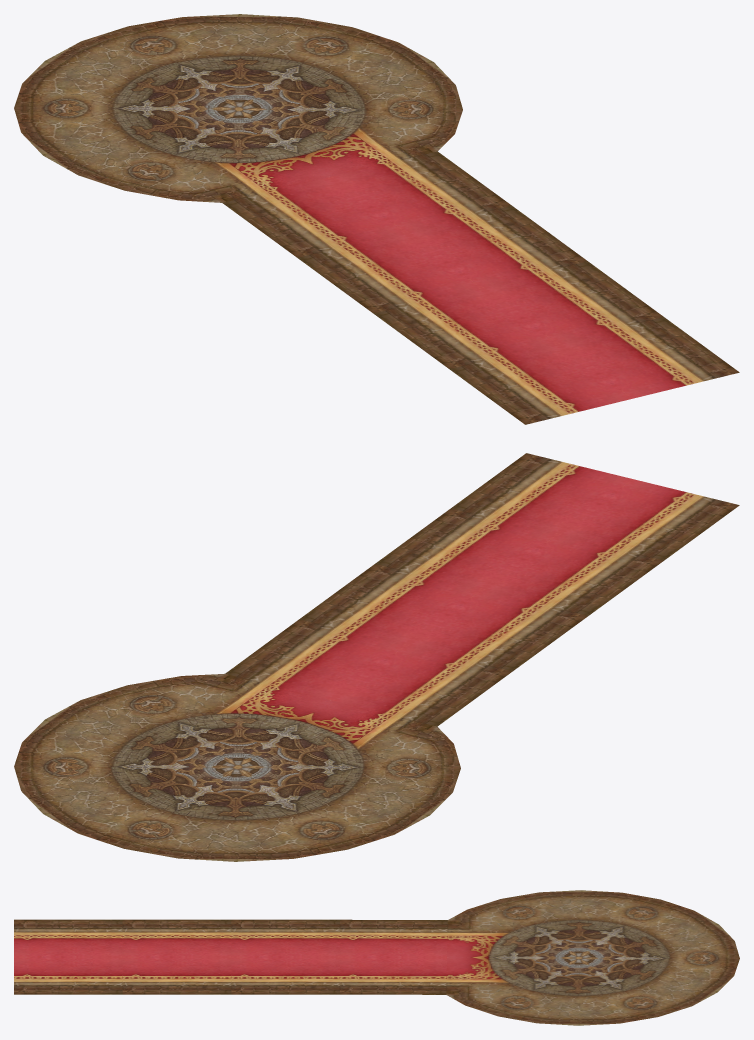
File: S_Build_City017.FBX
3 renders of one model, top to bottom at view 1: azimuth 30°, elevation 25°; view 2: azimuth 150°, elevation 25°; view 3: azimuth 270°, elevation 25°, orthographic. The views are drawn at different scales.
Parts seen in each view (by area): view 1: S_Build_City017; view 2: S_Build_City017; view 3: S_Build_City017.
Part boxes in pixels (<box>): S_Build_City017: <box>14,14,739,424</box>; S_Build_City017: <box>14,453,739,861</box>; S_Build_City017: <box>14,890,739,1025</box>.
Bounding box in the file's own units: 5759 × 4.8 × 13031.
Materials: 1 (1 with a texture image).
